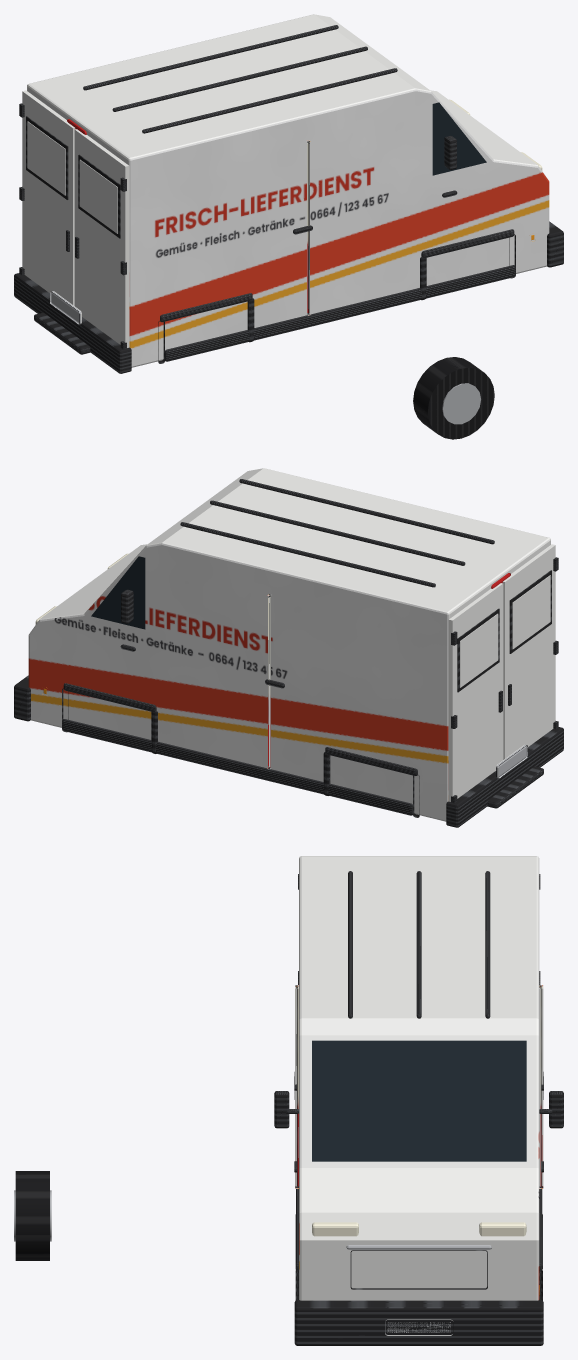
The model's file is kebap_van.fbx.
The picture shows the model from 3 angles, top to bottom: view 1: azimuth 30°, elevation 25°; view 2: azimuth 150°, elevation 25°; view 3: azimuth 270°, elevation 25°; orthographic projection. The views are drawn at different scales.
Parts seen in each view (by area): view 1: Body, DoorR, DoorL, Wheel, Glass; view 2: Body, DoorL, DoorR, Glass; view 3: Body, Glass, Wheel.
Part boxes in pixels (x1=…): Body: x1=14, y1=14, x2=563, y2=373; DoorR: x1=74, y1=129, x2=129, y2=349; DoorL: x1=19, y1=90, x2=75, y2=305; Wheel: x1=413, y1=357, x2=494, y2=439; Glass: x1=432, y1=102, x2=486, y2=175; Body: x1=14, y1=468, x2=563, y2=827; DoorL: x1=448, y1=583, x2=503, y2=803; DoorR: x1=502, y1=544, x2=558, y2=759; Glass: x1=91, y1=556, x2=145, y2=629; Body: x1=274, y1=856, x2=563, y2=1345; Glass: x1=312, y1=1040, x2=526, y2=1161; Wheel: x1=14, y1=1171, x2=51, y2=1260.
Bounding box in the file's own units: 1427 × 738 × 1281.
2 materials, 2 textured.
